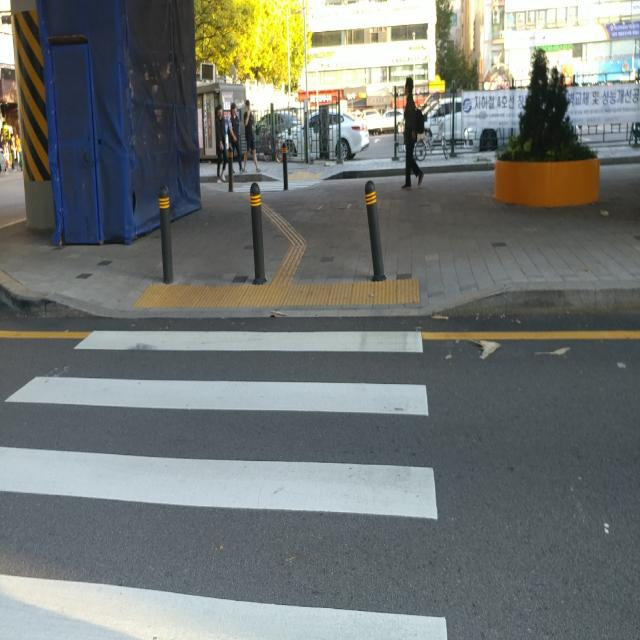횡단보도: (0, 327, 448, 640)
